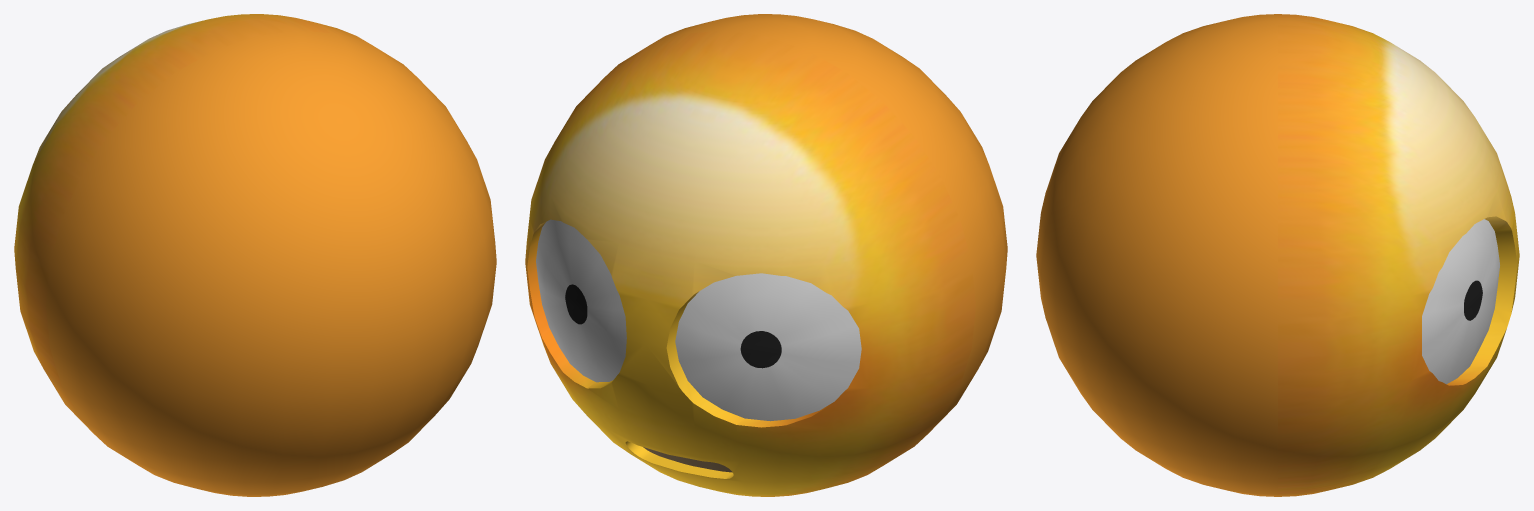
The model's file is 4-WTF.glb.
3 renders of one model, left to right at view 1: azimuth 30°, elevation 25°; view 2: azimuth 150°, elevation 25°; view 3: azimuth 270°, elevation 25°, orthographic.
Visible parts, largest first — view 1: WFT; view 2: WFT; view 3: WFT.
Part boxes in pixels (x1,y1,x2,y2): WFT: [14, 14, 496, 496]; WFT: [525, 14, 1007, 496]; WFT: [1036, 14, 1519, 496].
Bounding box in the file's own units: 1.05 × 1.05 × 1.05.
Materials: 4 (1 with a texture image).
